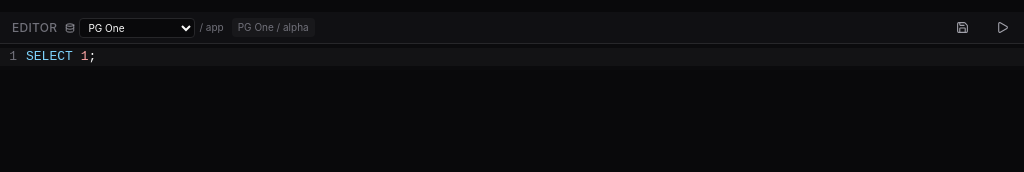
Scenario: EditorPanel execution › clears the database on a server-level connection and blocks execution until bound
Select "PG Server" in the dropdown named "Tab connection" at (137, 28), box top-left (79, 18), bottom-right (195, 38)
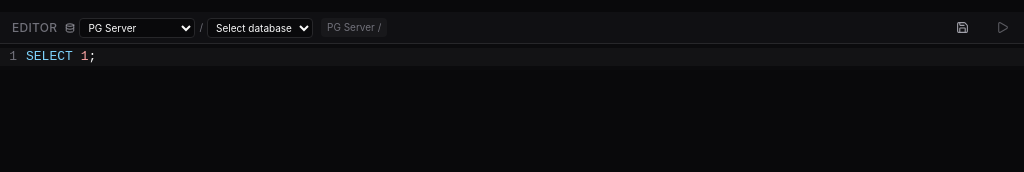
expect the button named "Run query" is disabled: met, box top-left (984, 12), bottom-right (1020, 46)
Press Enter
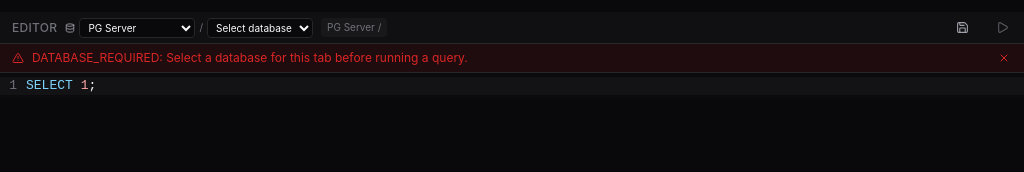
expect the text "DATABASE_REQUIRED" is shown: met, box top-left (32, 50), bottom-right (159, 65)
